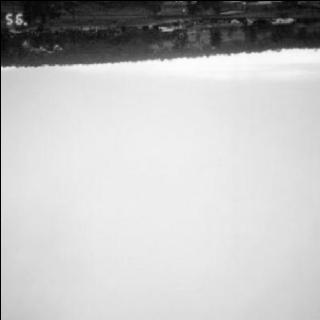Nimbostratus: (0, 42, 320, 320)
